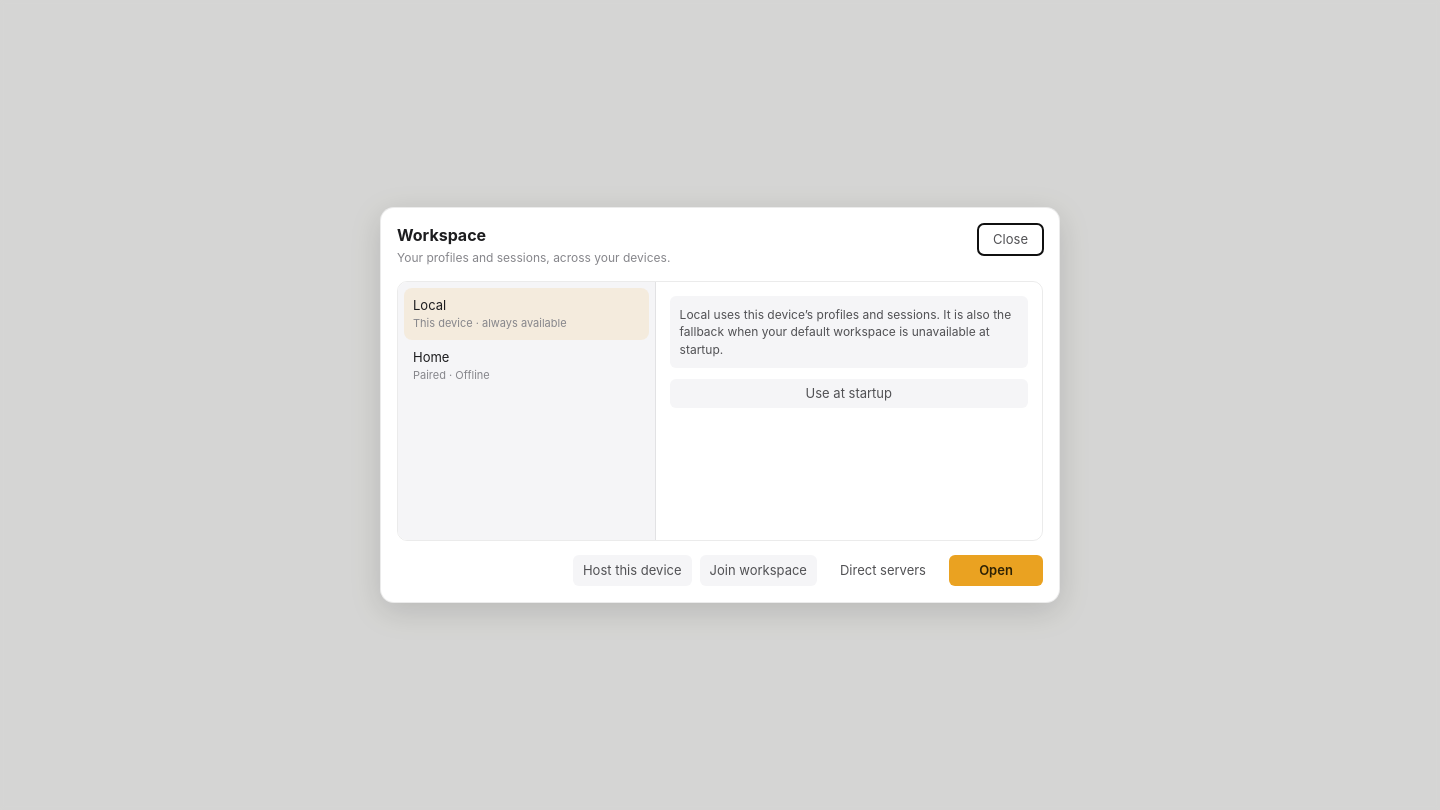
offers rejoining an unavailable guest workspace with its saved bridge URL
This screenshot has width=1440, height=810.
Click the button "Home Paired · Offline" at (526, 366), box [404, 340, 649, 392]
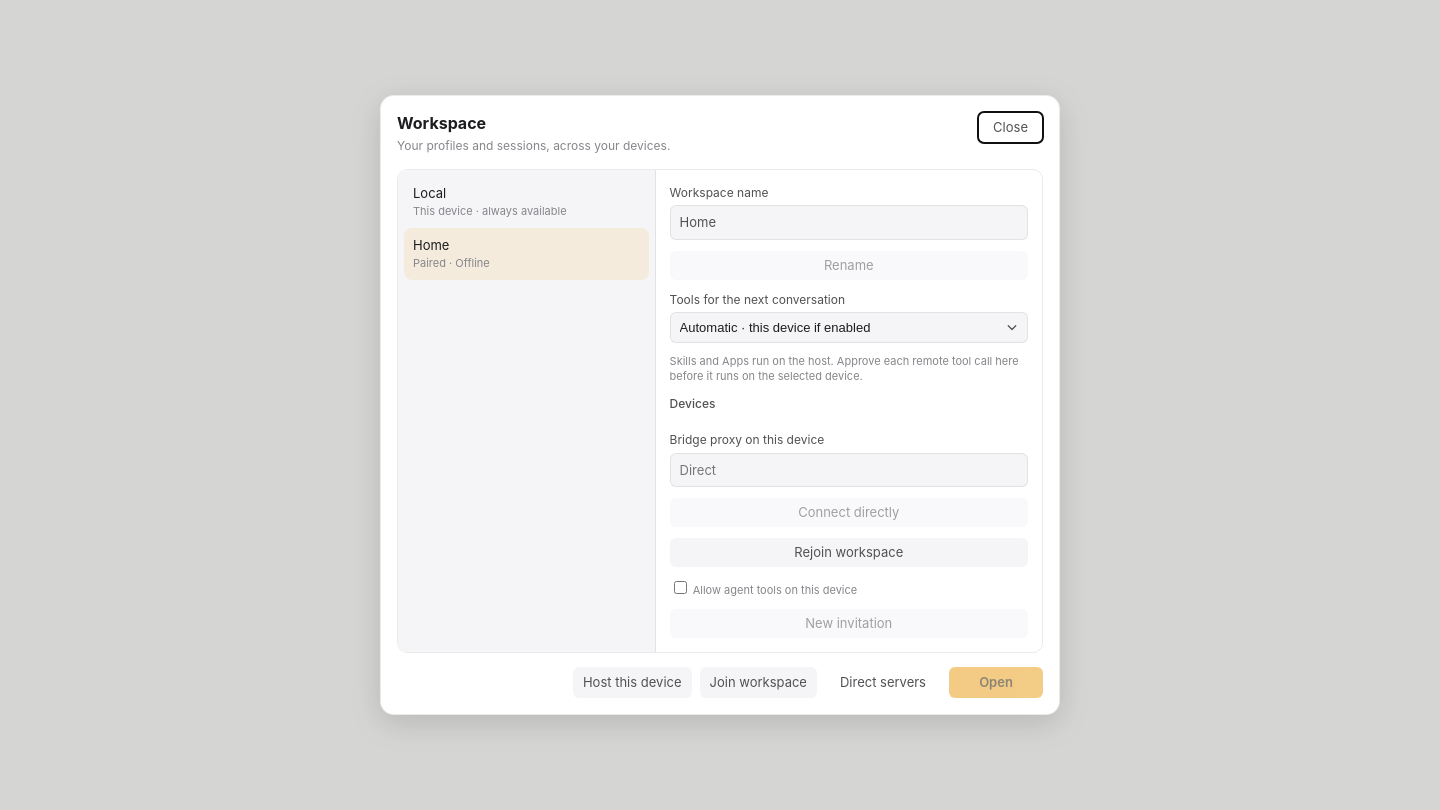
Click the button "Rejoin workspace" at (849, 553), box [670, 538, 1028, 567]
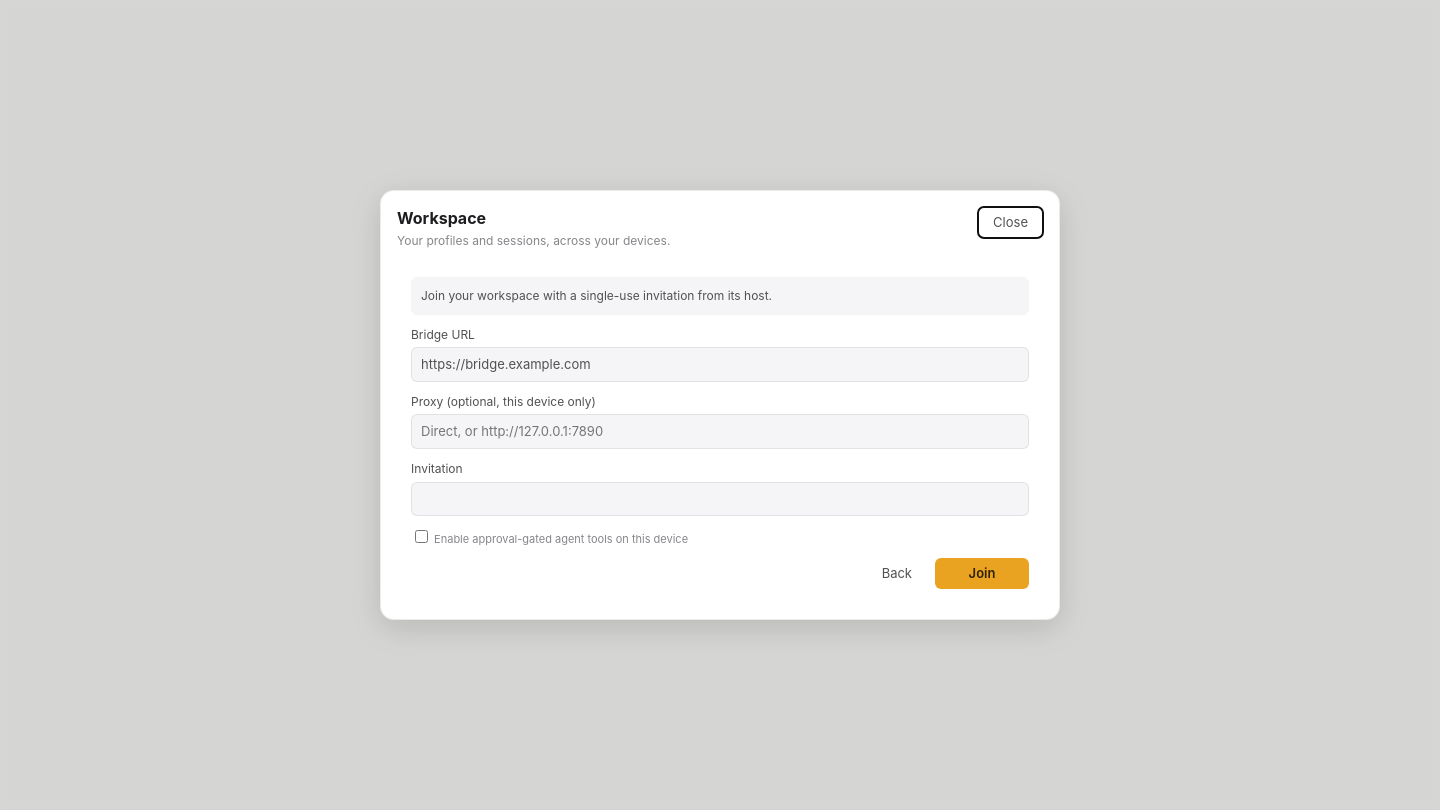
Result: the password field labelled "Invitation" is shown at [411, 482, 1029, 516]
Result: the field labelled "Bridge URL" holds "https://bridge.example.com" at [411, 347, 1029, 382]
